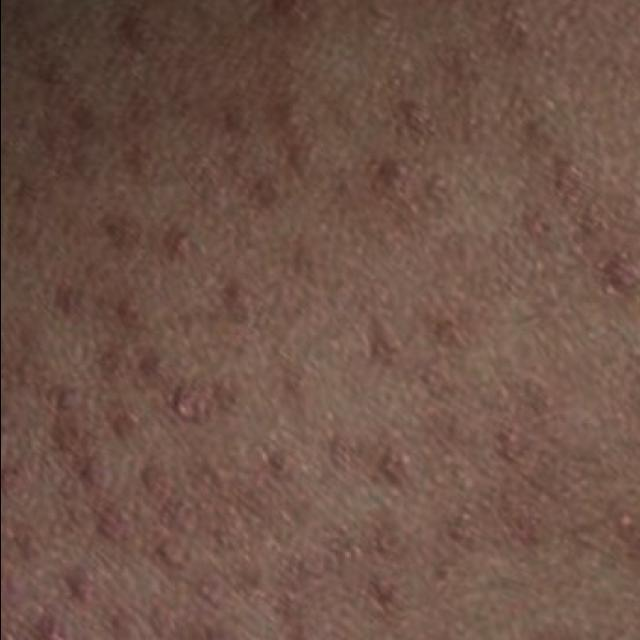keratosis pilaris: (0, 0, 511, 640)
